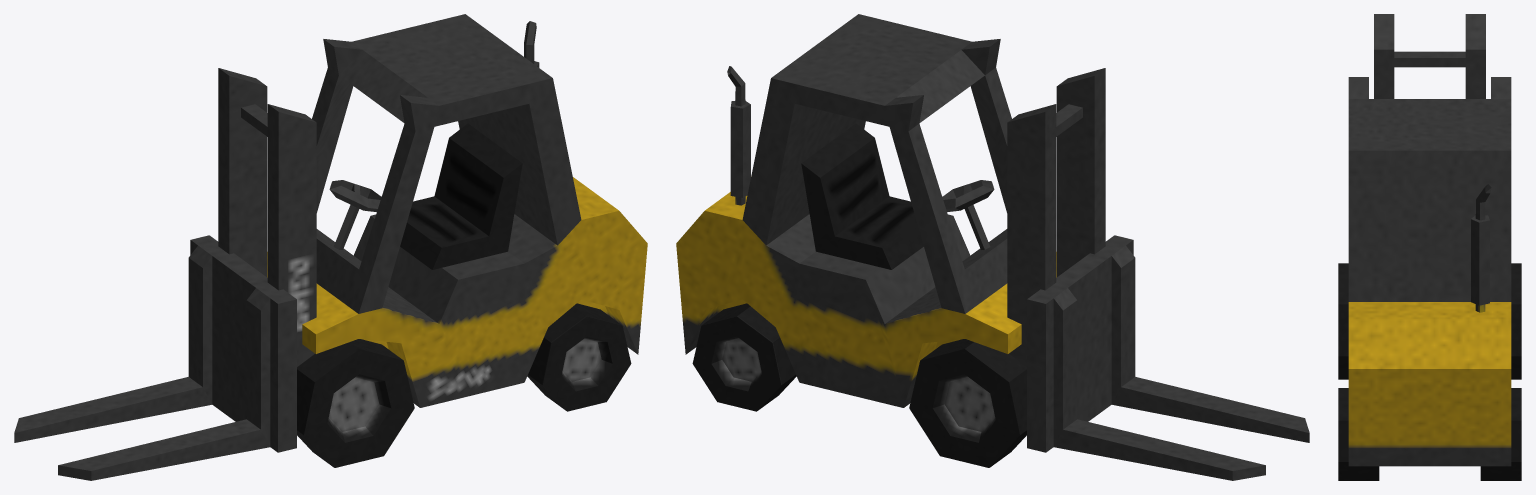
Rendered from forklift.fbx.
The picture shows the model from 3 angles, left to right: view 1: azimuth 30°, elevation 25°; view 2: azimuth 150°, elevation 25°; view 3: azimuth 270°, elevation 25°; orthographic projection. The views are drawn at different scales.
Visible parts, largest first — view 1: forklift_seat, wheel_big_1, forklift_seat.001, wheel_1, forklift_steering; view 2: forklift_seat, wheel_big_2, forklift_seat.001, wheel_2, forklift_steering; view 3: forklift_seat, wheel_1, wheel_2, wheel_big_1, wheel_big_2.
Boxes of the visible parts, bbox=[...] form: forklift_seat: bbox=[14, 14, 647, 480]; wheel_big_1: bbox=[297, 339, 414, 467]; forklift_seat.001: bbox=[400, 123, 522, 269]; wheel_1: bbox=[527, 303, 631, 411]; forklift_steering: bbox=[329, 180, 381, 249]; forklift_seat: bbox=[676, 14, 1309, 480]; wheel_big_2: bbox=[909, 339, 1026, 467]; forklift_seat.001: bbox=[801, 123, 923, 269]; wheel_2: bbox=[692, 303, 796, 411]; forklift_steering: bbox=[942, 180, 994, 249]; forklift_seat: bbox=[1348, 14, 1511, 466]; wheel_1: bbox=[1338, 388, 1379, 480]; wheel_2: bbox=[1480, 388, 1521, 480]; wheel_big_1: bbox=[1338, 263, 1348, 379]; wheel_big_2: bbox=[1511, 263, 1521, 379].
Bounding box in the file's own units: 59.9 × 35.42 × 18.04.
